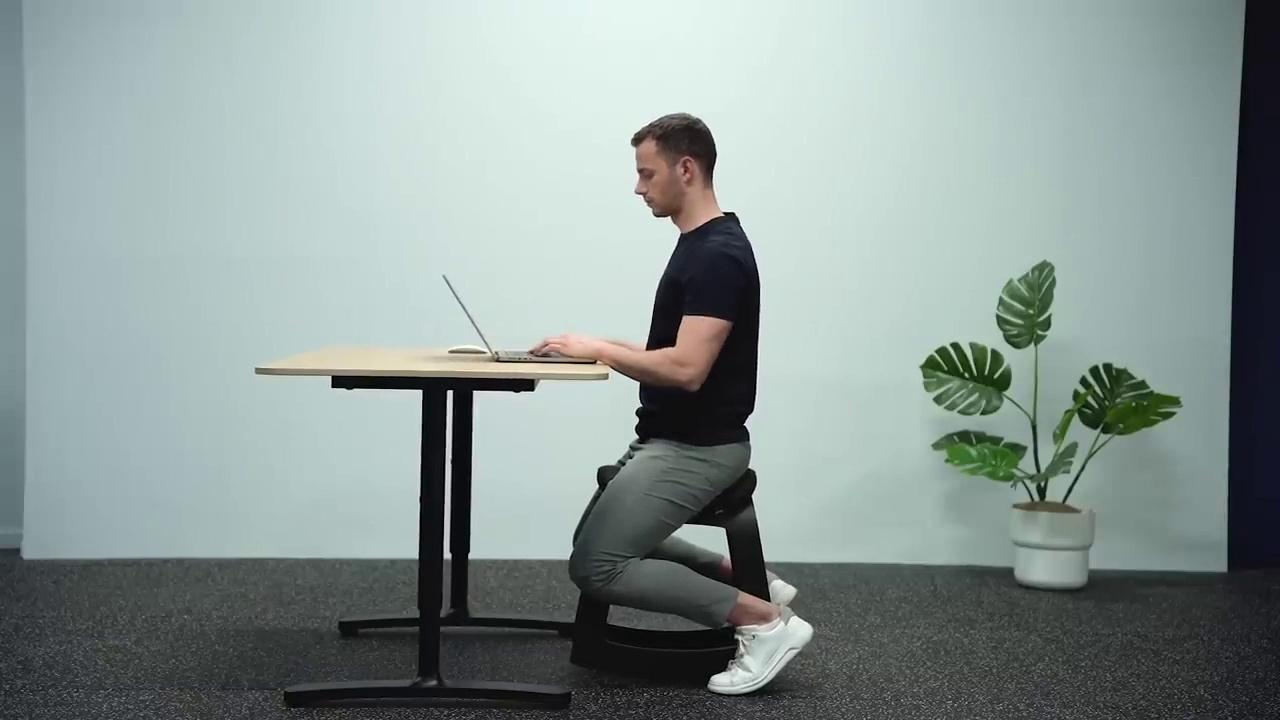GoodPosture: (533, 113, 813, 694)
